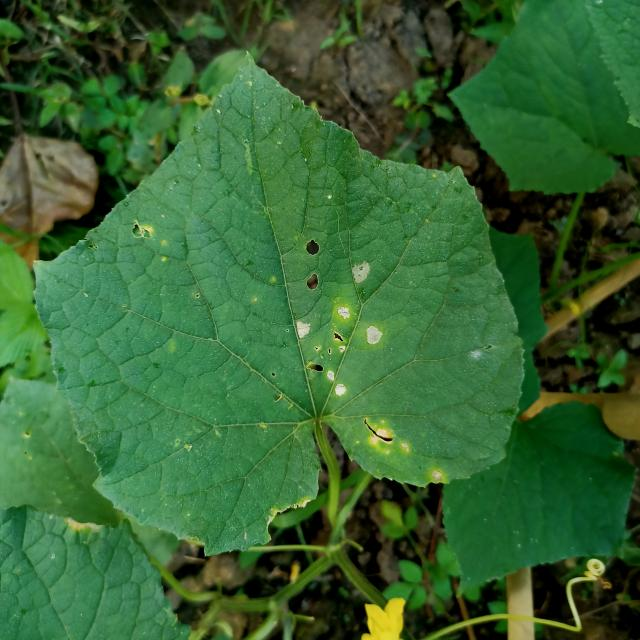disease_cucumber: (280, 252, 387, 409)
